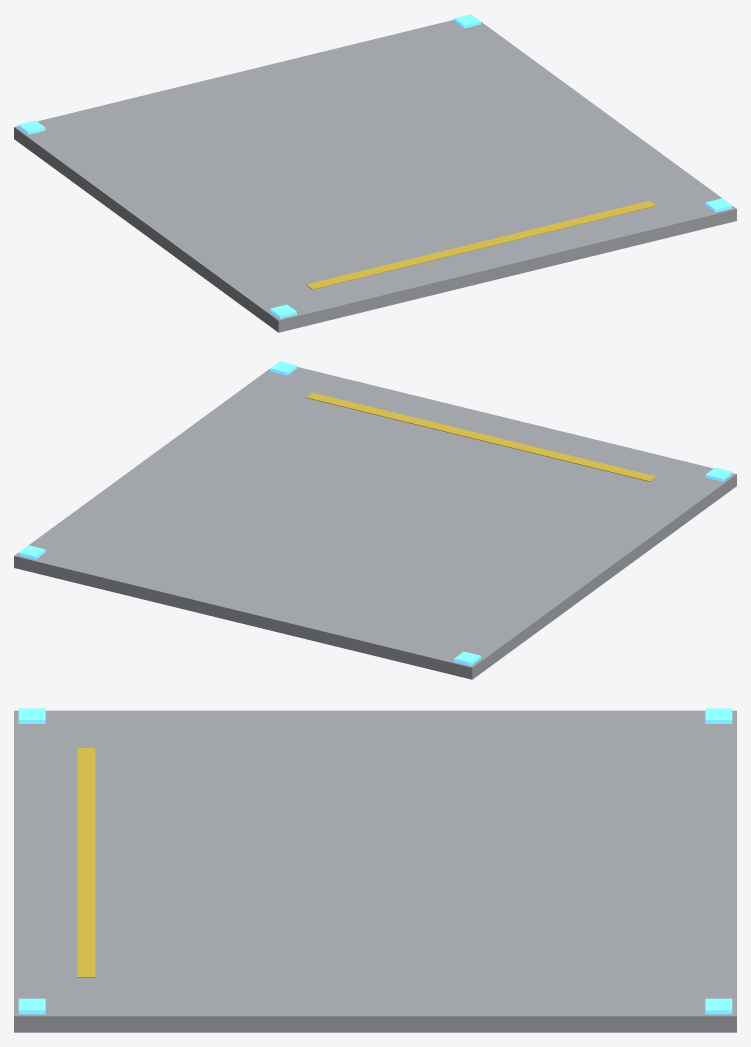
Rendered from OutpostPlate.glb.
3 renders of one model, top to bottom at view 1: azimuth 30°, elevation 25°; view 2: azimuth 150°, elevation 25°; view 3: azimuth 270°, elevation 25°, orthographic. The views are drawn at different scales.
Parts seen in each view (by area): view 1: OutpostPlate; view 2: OutpostPlate; view 3: OutpostPlate.
Part boxes in pixels (left/top/right/bottom): OutpostPlate: left=14, top=14, right=736, bottom=332; OutpostPlate: left=14, top=361, right=736, bottom=679; OutpostPlate: left=14, top=708, right=736, bottom=1032.
Size of the model in its own units: 8 by 0.25 by 8.
